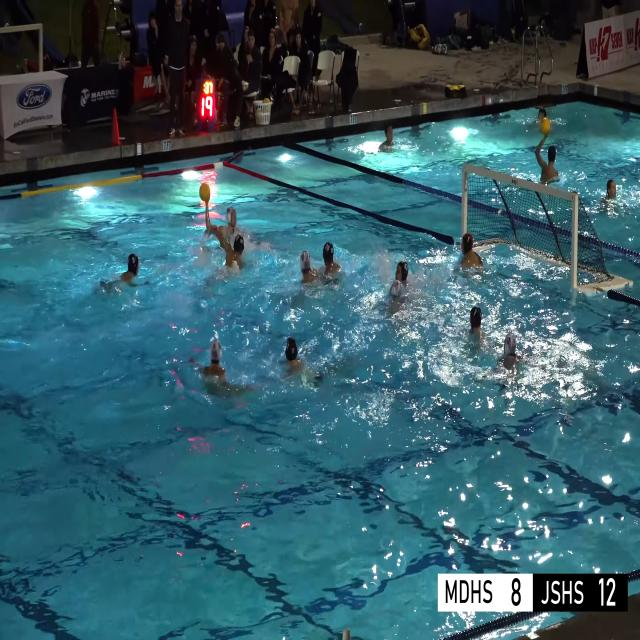ball: (199, 183, 210, 201), (541, 117, 550, 133), (262, 97, 270, 103)
